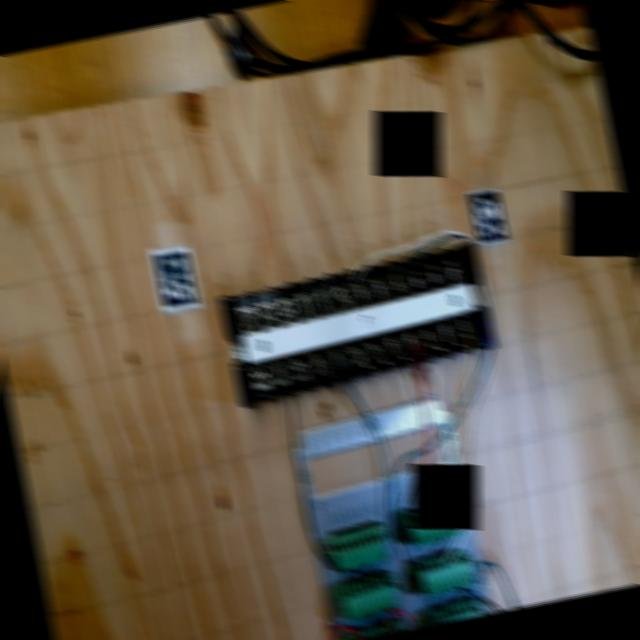Phillips_Block: (217, 241, 499, 408)
Terminal_2: (337, 571, 400, 623), (416, 548, 475, 597), (405, 499, 464, 546), (426, 597, 482, 629), (350, 618, 404, 640)
